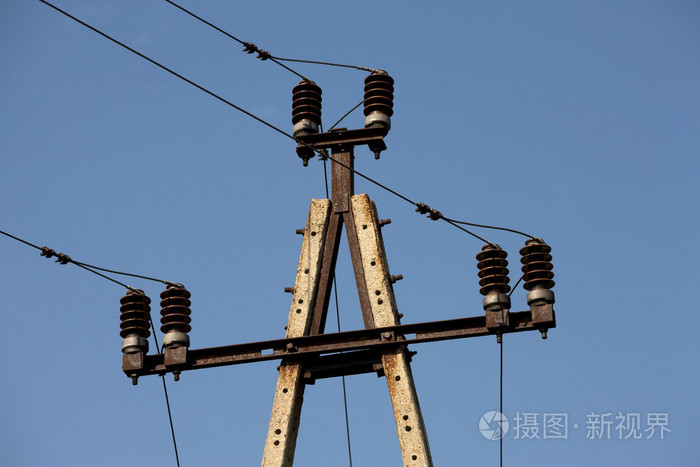insulator: (521, 241, 559, 293), (478, 244, 511, 297), (159, 286, 195, 333), (288, 82, 325, 126), (117, 293, 151, 340), (360, 72, 398, 114)
